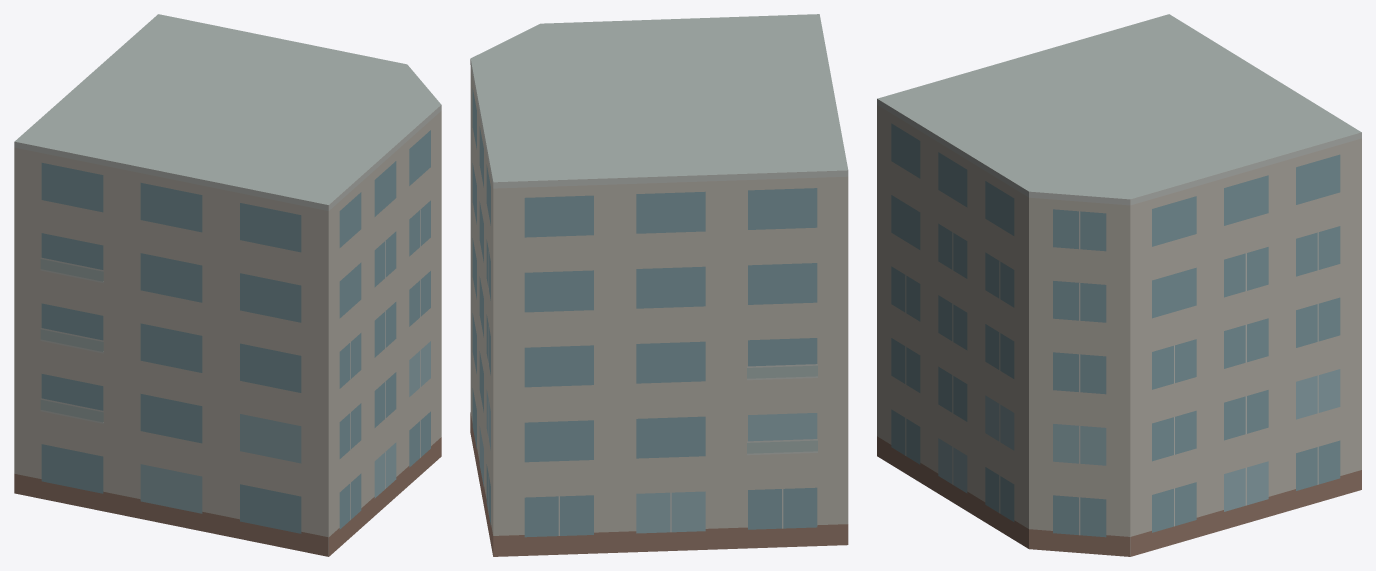
Rendered from survey-upis-32889554.glb.
3 views of the same model, side by side, from view 1: azimuth 30°, elevation 25°; view 2: azimuth 150°, elevation 25°; view 3: azimuth 270°, elevation 25° (orthographic). The views are drawn at different scales.
Parts seen in each view (by area): view 1: survey-upis-32889554.tmp; view 2: survey-upis-32889554.tmp; view 3: survey-upis-32889554.tmp.
Part boxes in pixels (<box>): survey-upis-32889554.tmp: <box>14,14,441,556</box>; survey-upis-32889554.tmp: <box>470,14,848,556</box>; survey-upis-32889554.tmp: <box>877,14,1361,556</box>.
Size of the model in its own units: 16.03 by 14.4 by 17.71.
